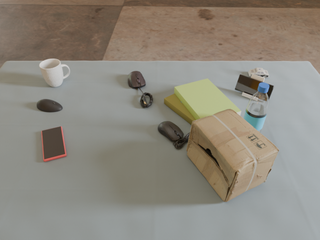book: (174, 79, 241, 120)
bottle: (244, 82, 270, 132)
box: (186, 109, 279, 202)
cup: (39, 59, 70, 87)
mouse: (158, 121, 190, 149), (37, 99, 62, 112), (128, 71, 146, 89)
phone: (235, 75, 274, 98), (41, 127, 66, 161)
toy_car: (248, 68, 269, 78)
